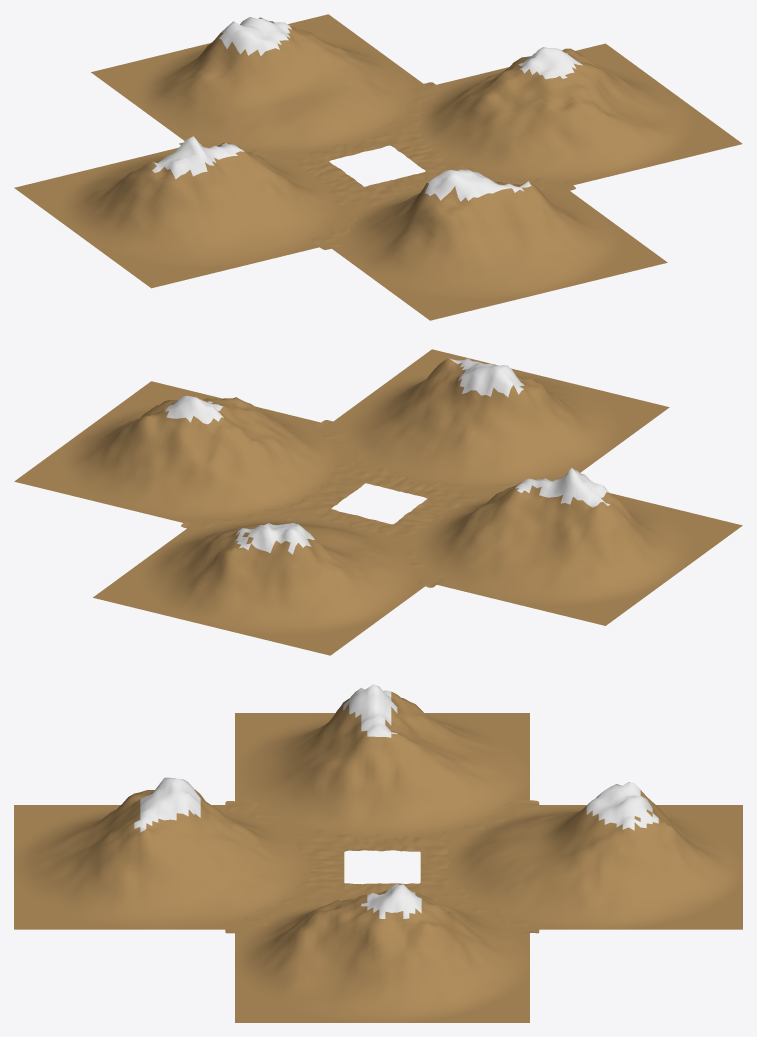
Rendered from terrain.fbx.
3 views of the same model, one above another, from view 1: azimuth 30°, elevation 25°; view 2: azimuth 150°, elevation 25°; view 3: azimuth 270°, elevation 25° (orthographic). The views are drawn at different scales.
Parts seen in each view (by area): view 1: Landscape.015; view 2: Landscape.015; view 3: Landscape.015.
Part boxes in pixels (x1,y1,x2,y2): Landscape.015: (14,14,742,320); Landscape.015: (14,349,742,655); Landscape.015: (14,684,742,1022).
Bounding box in the file's own units: 25414 × 3274 × 25256.
